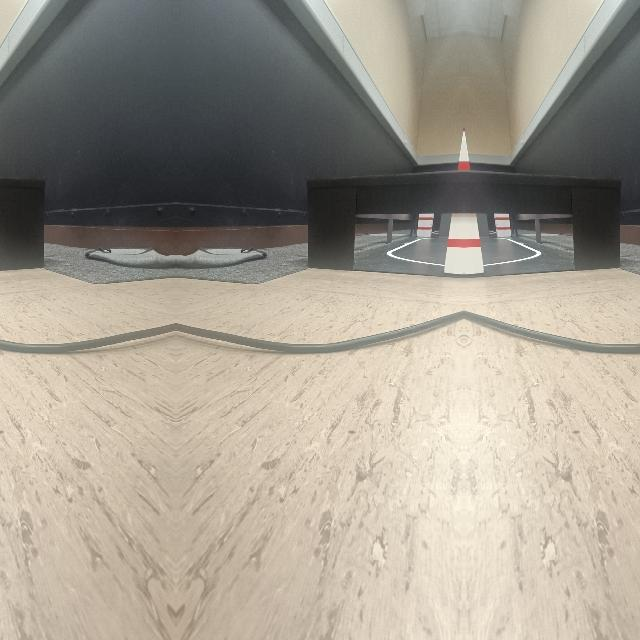obstacle: (306, 172, 464, 274), (464, 172, 622, 274), (174, 316, 463, 354), (463, 316, 640, 353), (0, 316, 175, 353), (0, 172, 44, 274)
